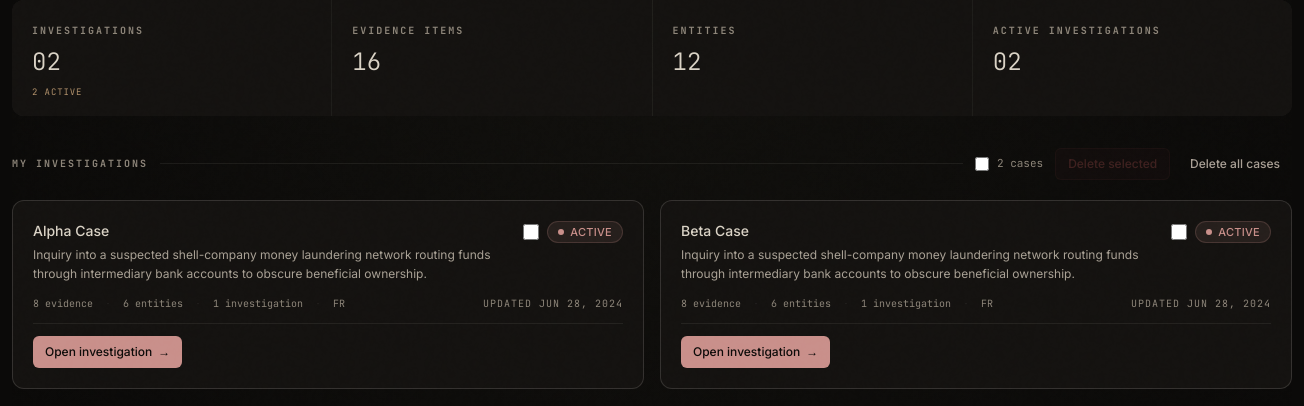
CaseList › select-all toggles every case
The width and height of the screenshot is (1304, 406).
expect the heading "Alpha Case" is shown: met, box [33,220,109,240]
Click the checkbox named "Select all cases" at (982, 164), box [975,156,989,170]
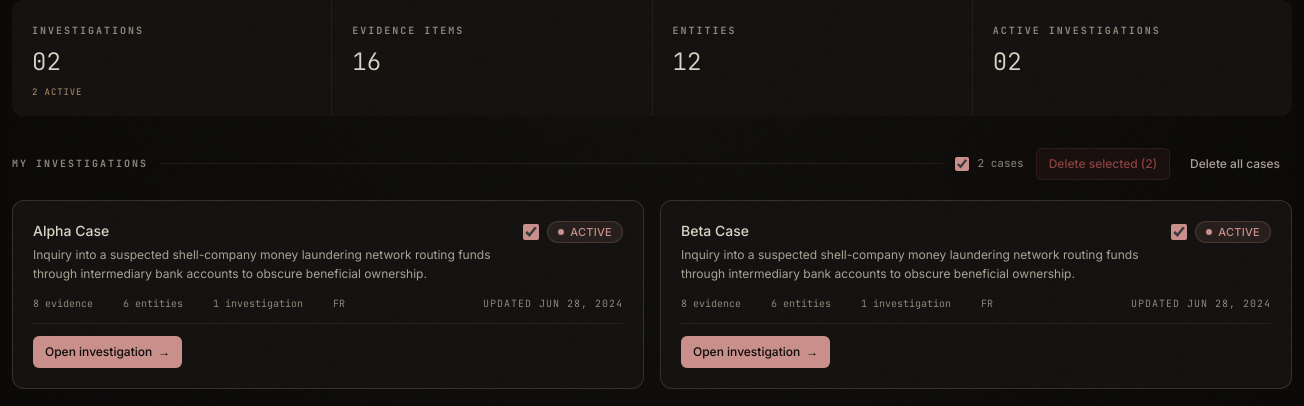
expect the checkbox named "Select Alpha Case" is checked: met, box [523,224,539,240]
expect the checkbox named "Select Beta Case" is checked: met, box [1171,224,1187,240]
expect the button "Delete selected (2)" is enabled: met, box [1036,148,1170,180]
